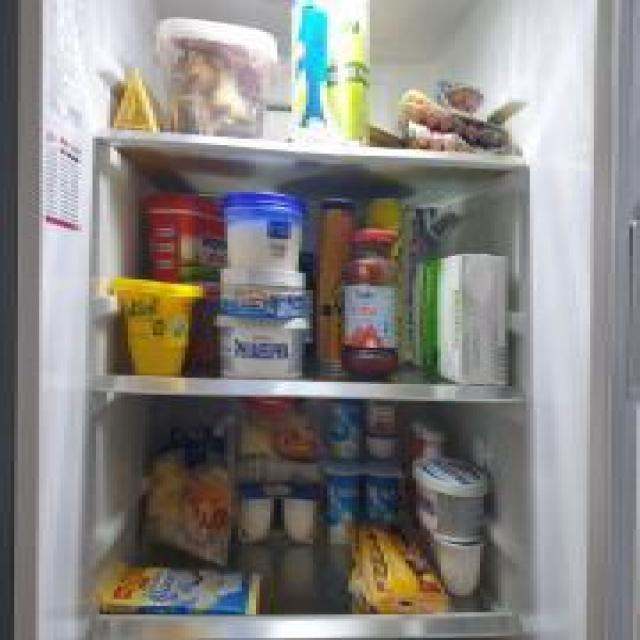butter: (140, 188, 226, 284)
cheese: (218, 268, 308, 314)
grated_cheese: (142, 398, 235, 571), (230, 399, 326, 482)
marmelade: (343, 228, 400, 380)
milk: (407, 256, 507, 393)
sausage: (400, 92, 514, 162)
yogurt: (324, 466, 359, 543), (329, 393, 361, 462), (364, 396, 396, 464)
